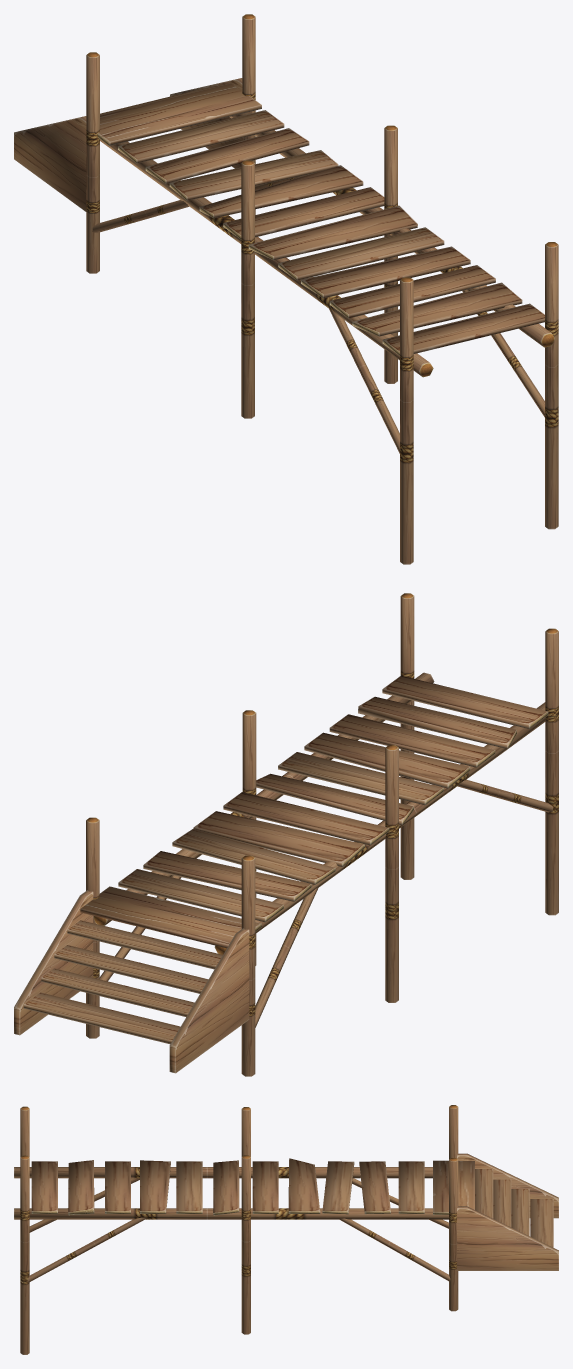
File: wharf_001.fbx
3 renders of one model, top to bottom at view 1: azimuth 30°, elevation 25°; view 2: azimuth 150°, elevation 25°; view 3: azimuth 270°, elevation 25°, orthographic. The views are drawn at different scales.
Parts seen in each view (by area): view 1: polySurface91; view 2: polySurface91; view 3: polySurface91.
Part boxes in pixels (left/top/right/bottom): polySurface91: left=14, top=14, right=558, bottom=564; polySurface91: left=14, top=593, right=558, bottom=1076; polySurface91: left=14, top=1105, right=558, bottom=1354.
Size of the model in its own units: 4.4 by 7.15 by 18.05.
